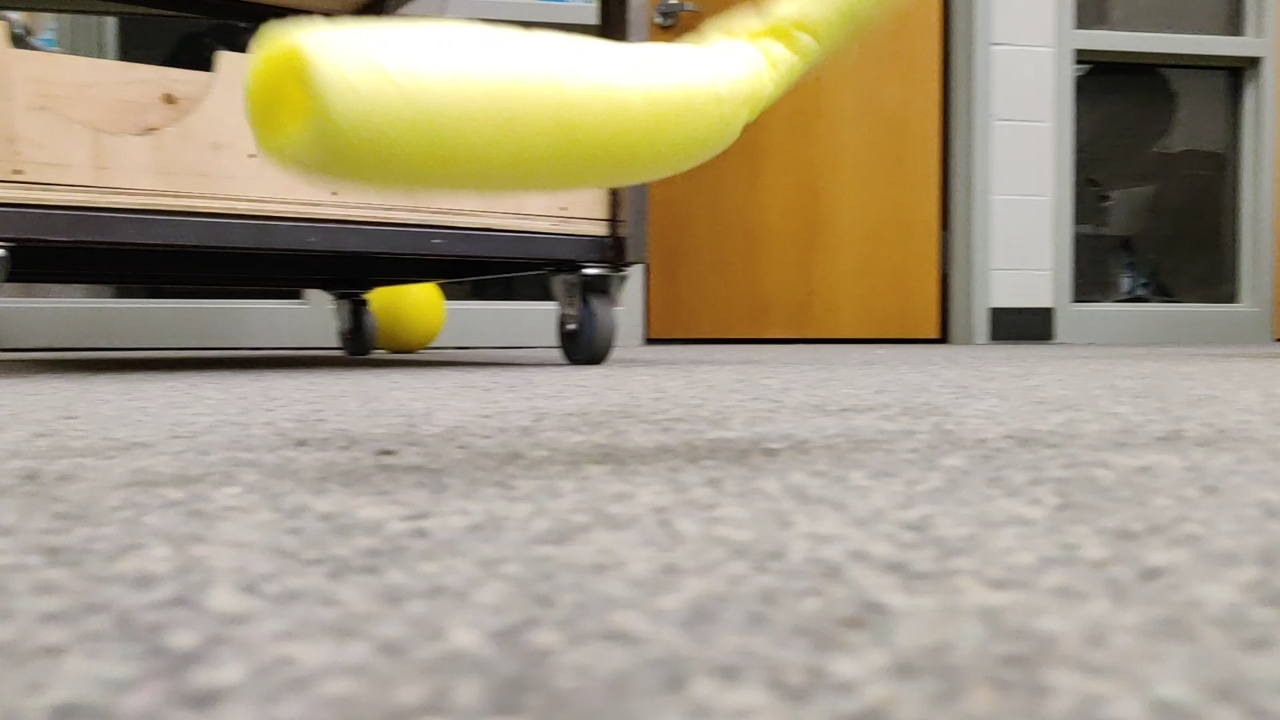Ball: (342, 267, 448, 372)
